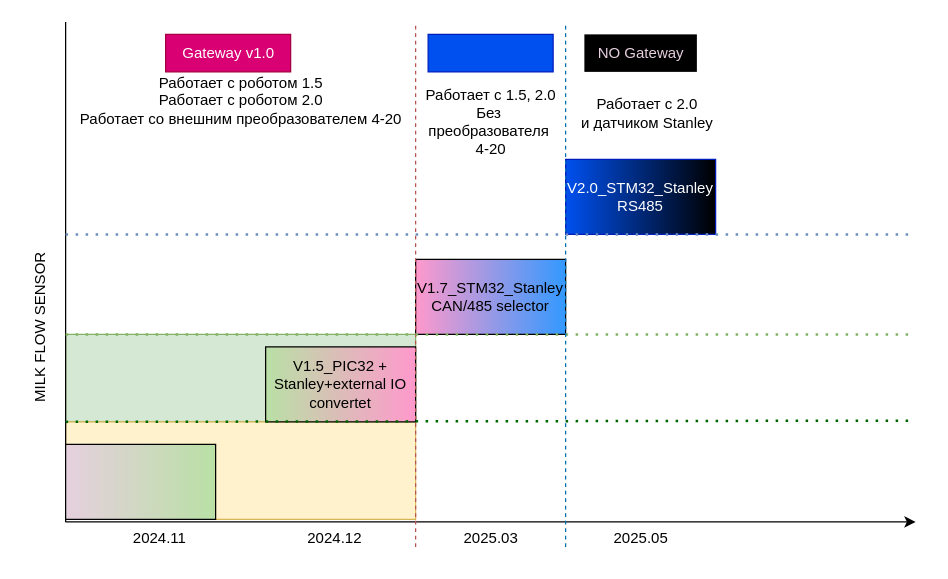
Image size: 948x579. Some labels were removed from this diagram. The centre of each missing label's shape, as x and y in pixels:
Gateway v1.5: (490,52)
V1_PIC32_IFM: (140,481)
